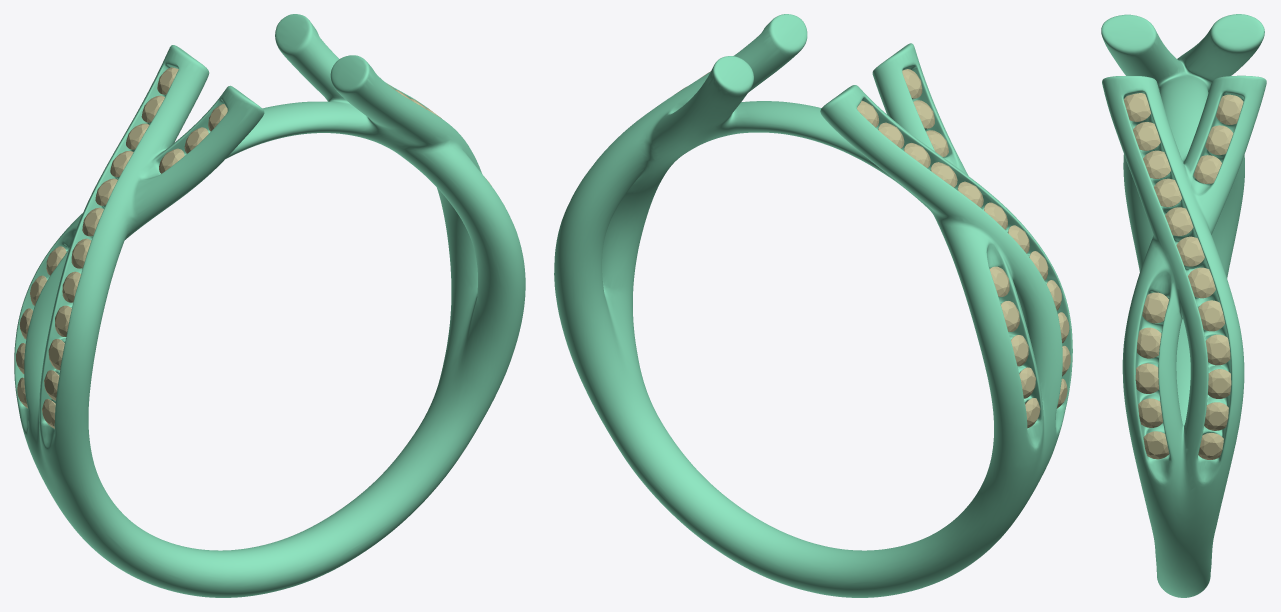
3 renders of one model, left to right at view 1: azimuth 30°, elevation 25°; view 2: azimuth 150°, elevation 25°; view 3: azimuth 270°, elevation 25°, orthographic.
Parts seen in each view (by area): view 1: Metal02; view 2: Metal02; view 3: Metal02, Diamond_Gem.011, Diamond_Gem.010, Diamond_Gem.018, Diamond_Gem.017, Diamond_Gem.009, Diamond_Gem.016, Diamond_Gem.019, Diamond_Gem.008, Diamond_Gem.020, Diamond_Gem, Diamond_Gem.015 (+9 smaller).
Part boxes in pixels (left/top/right/bottom): Metal02: left=14, top=14, right=525, bottom=597; Metal02: left=554, top=14, right=1072, bottom=597; Metal02: left=1101, top=14, right=1266, bottom=597; Diamond_Gem.011: left=1205, top=334, right=1230, bottom=365; Diamond_Gem.010: left=1198, top=300, right=1224, bottom=331; Diamond_Gem.018: left=1142, top=292, right=1168, bottom=323; Diamond_Gem.017: left=1137, top=327, right=1161, bottom=358; Diamond_Gem.009: left=1188, top=267, right=1215, bottom=298; Diamond_Gem.016: left=1135, top=363, right=1158, bottom=393; Diamond_Gem.019: left=1216, top=94, right=1243, bottom=124; Diamond_Gem.008: left=1176, top=236, right=1204, bottom=266; Diamond_Gem.020: left=1205, top=125, right=1233, bottom=155; Diamond_Gem: left=1208, top=369, right=1231, bottom=398; Diamond_Gem.015: left=1138, top=398, right=1162, bottom=427.
Bounding box in the file's own units: 21 × 22.5 × 6.4.
